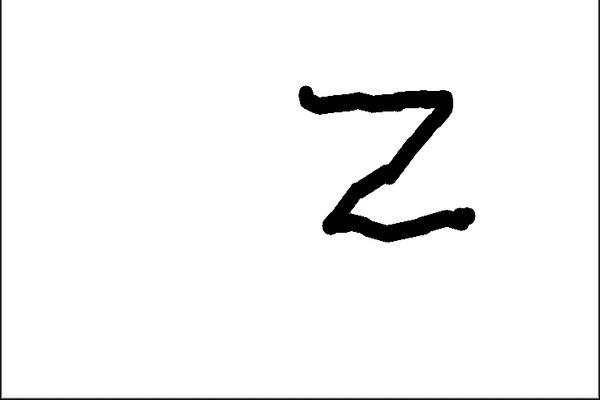Z: (277, 68, 493, 250)
